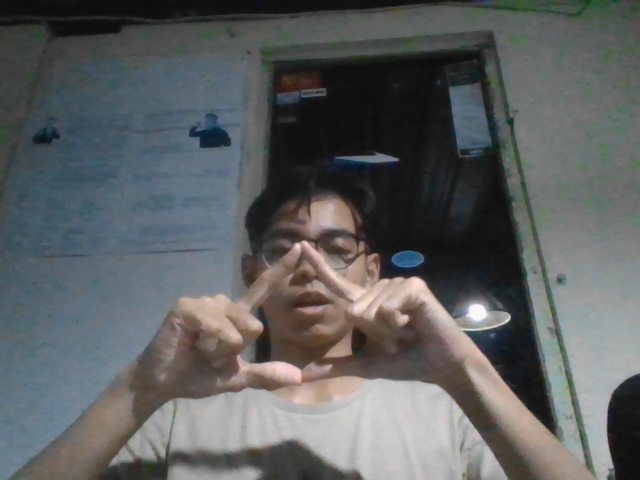A: (142, 236, 460, 405)
